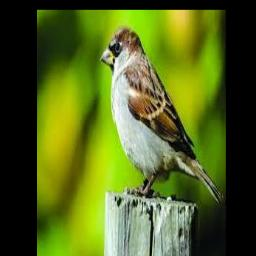Sparrow: (100, 27, 224, 204)
